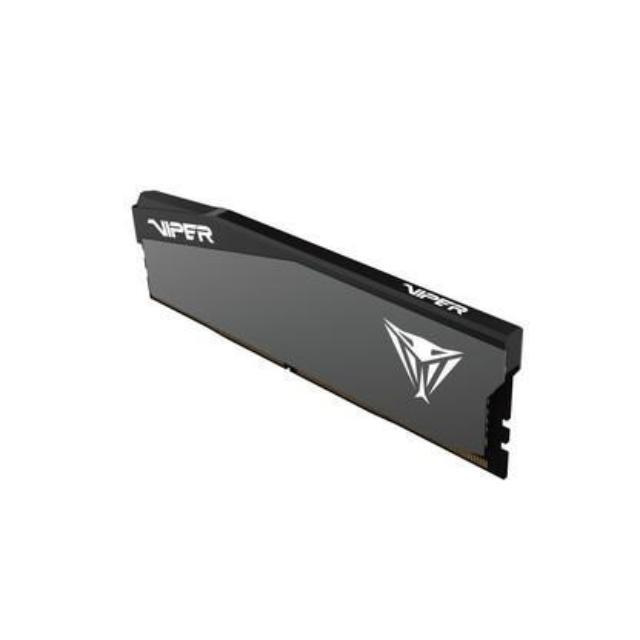RAM: (124, 175, 533, 482)
